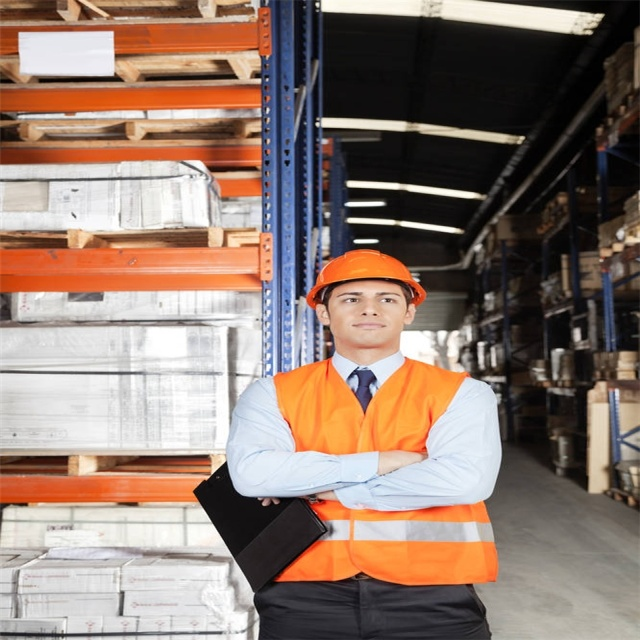Helmet: (295, 234, 438, 365)
Reflective vest: (271, 355, 504, 598)
